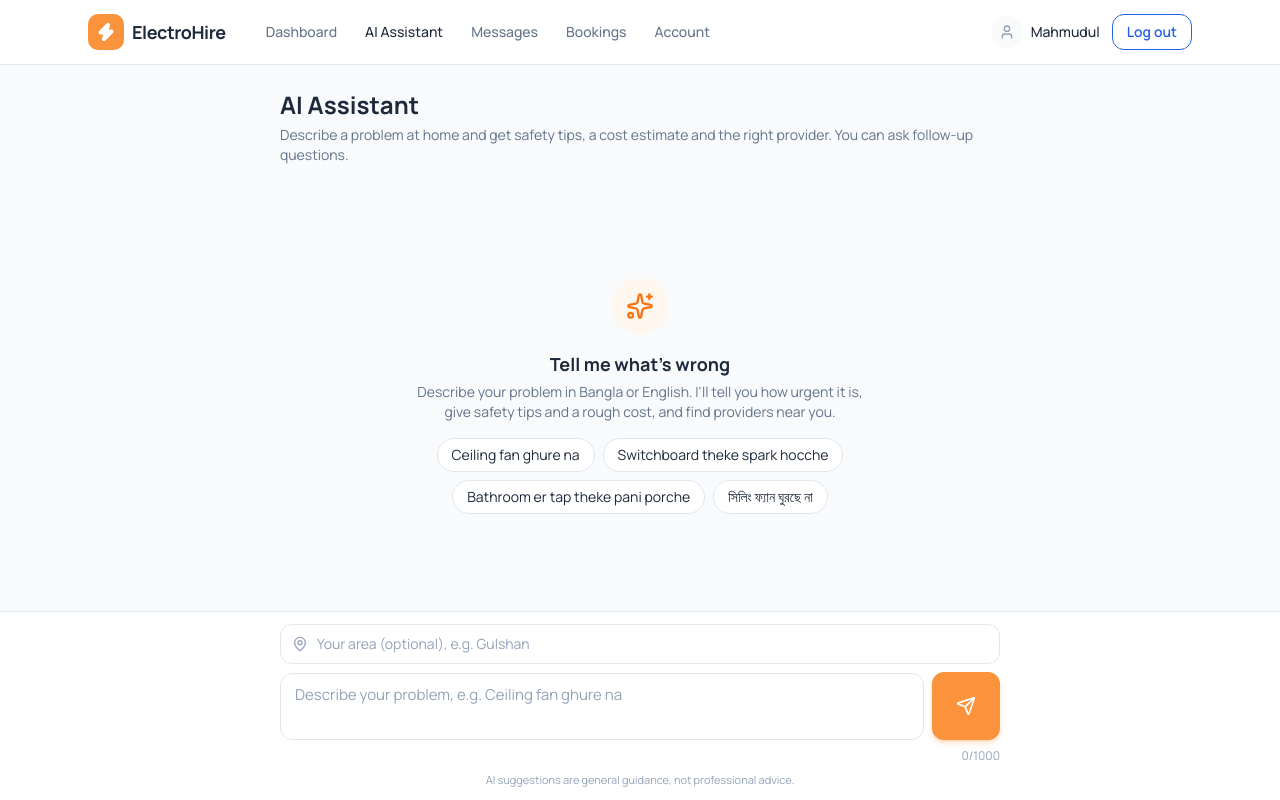
AssistantPage › shows a stand-out emergency warning
The width and height of the screenshot is (1280, 800).
Type "Switchboard theke spark hocche" into the text box labelled "Describe your problem, e.g. Ceiling fan ghure na" at point(602, 706), box [280,672,924,740]
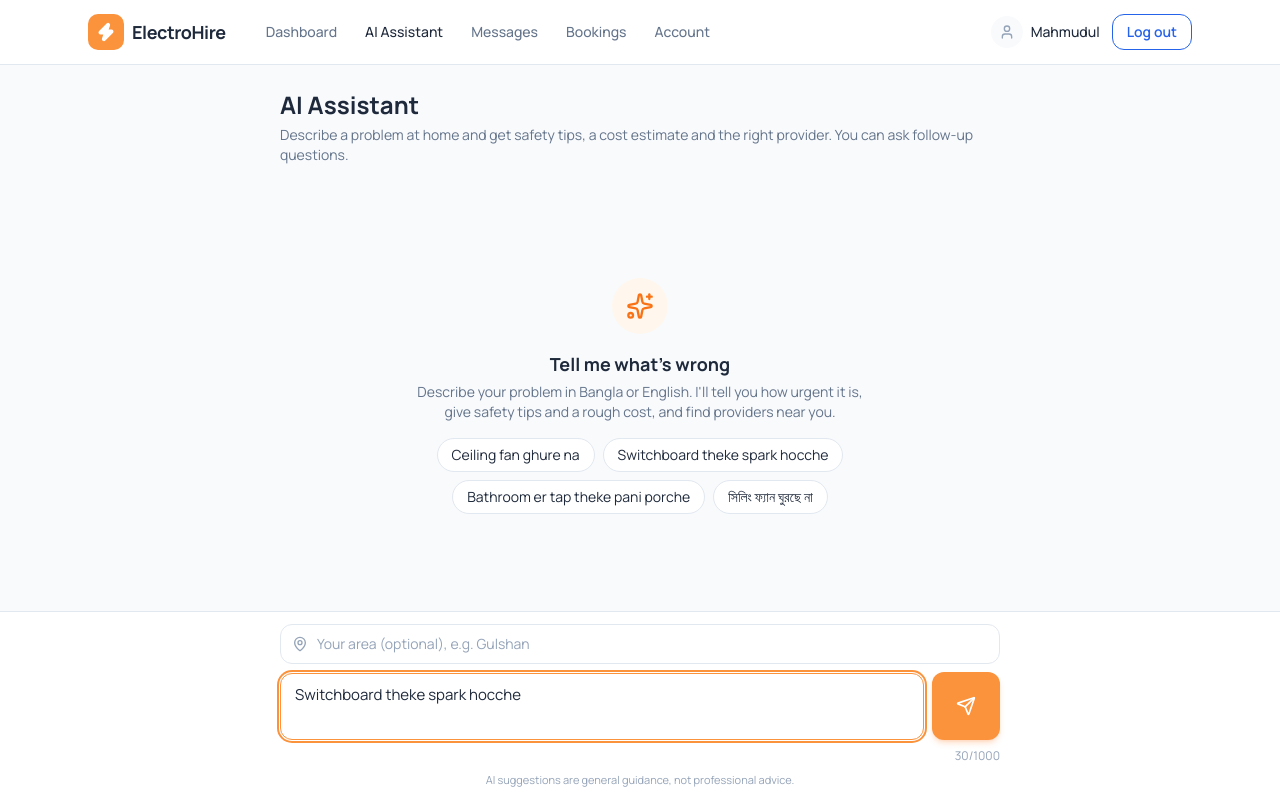
Click the button named "send" at point(966, 706), box [932,672,1000,740]
(page scrolled)
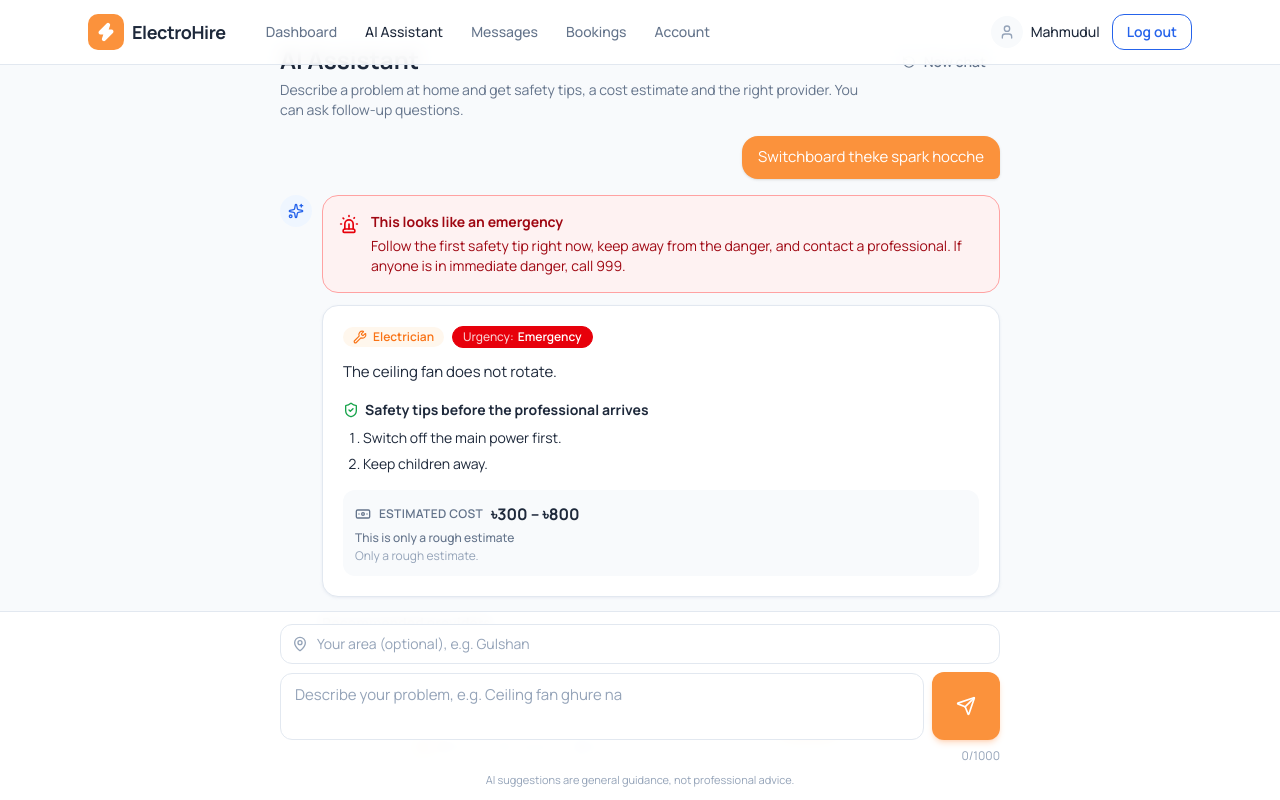
Check: the message shows "This looks like an emergency", box [371,212,563,230]
Check: the message shows "999", box [371,236,962,274]
Check: the text "Emergency" is shown, box [518,328,582,344]
